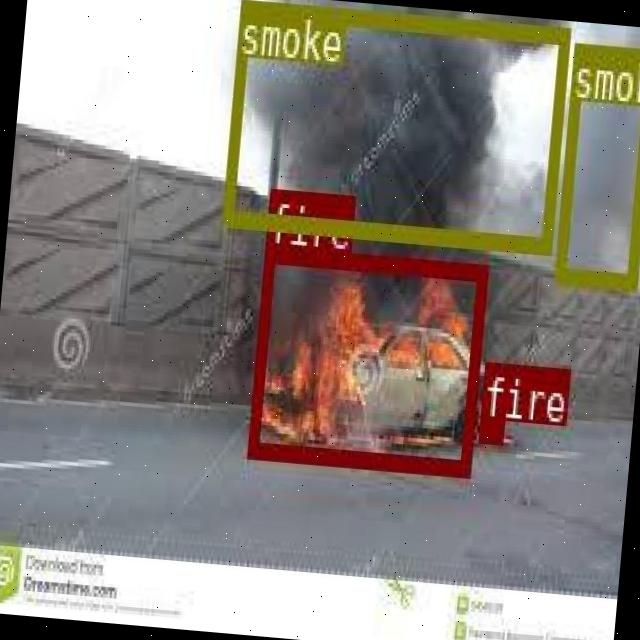fire: (246, 242, 487, 472), (478, 416, 502, 439)
smoke: (219, 0, 567, 250), (553, 42, 640, 285)
